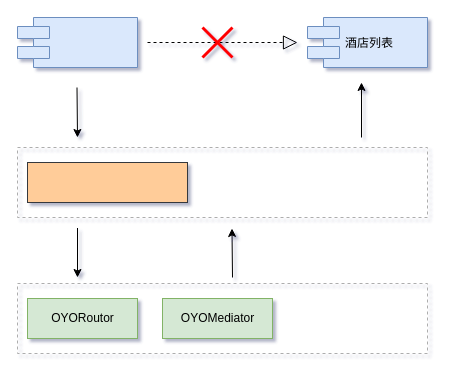
Some shapes in this 451 by 377 pixel diagram are drawn without their labels. The centre of each missing label's shape, as x and y in pixels:
OYOConsumer-service: (107,182)
首页模块: (77,42)
